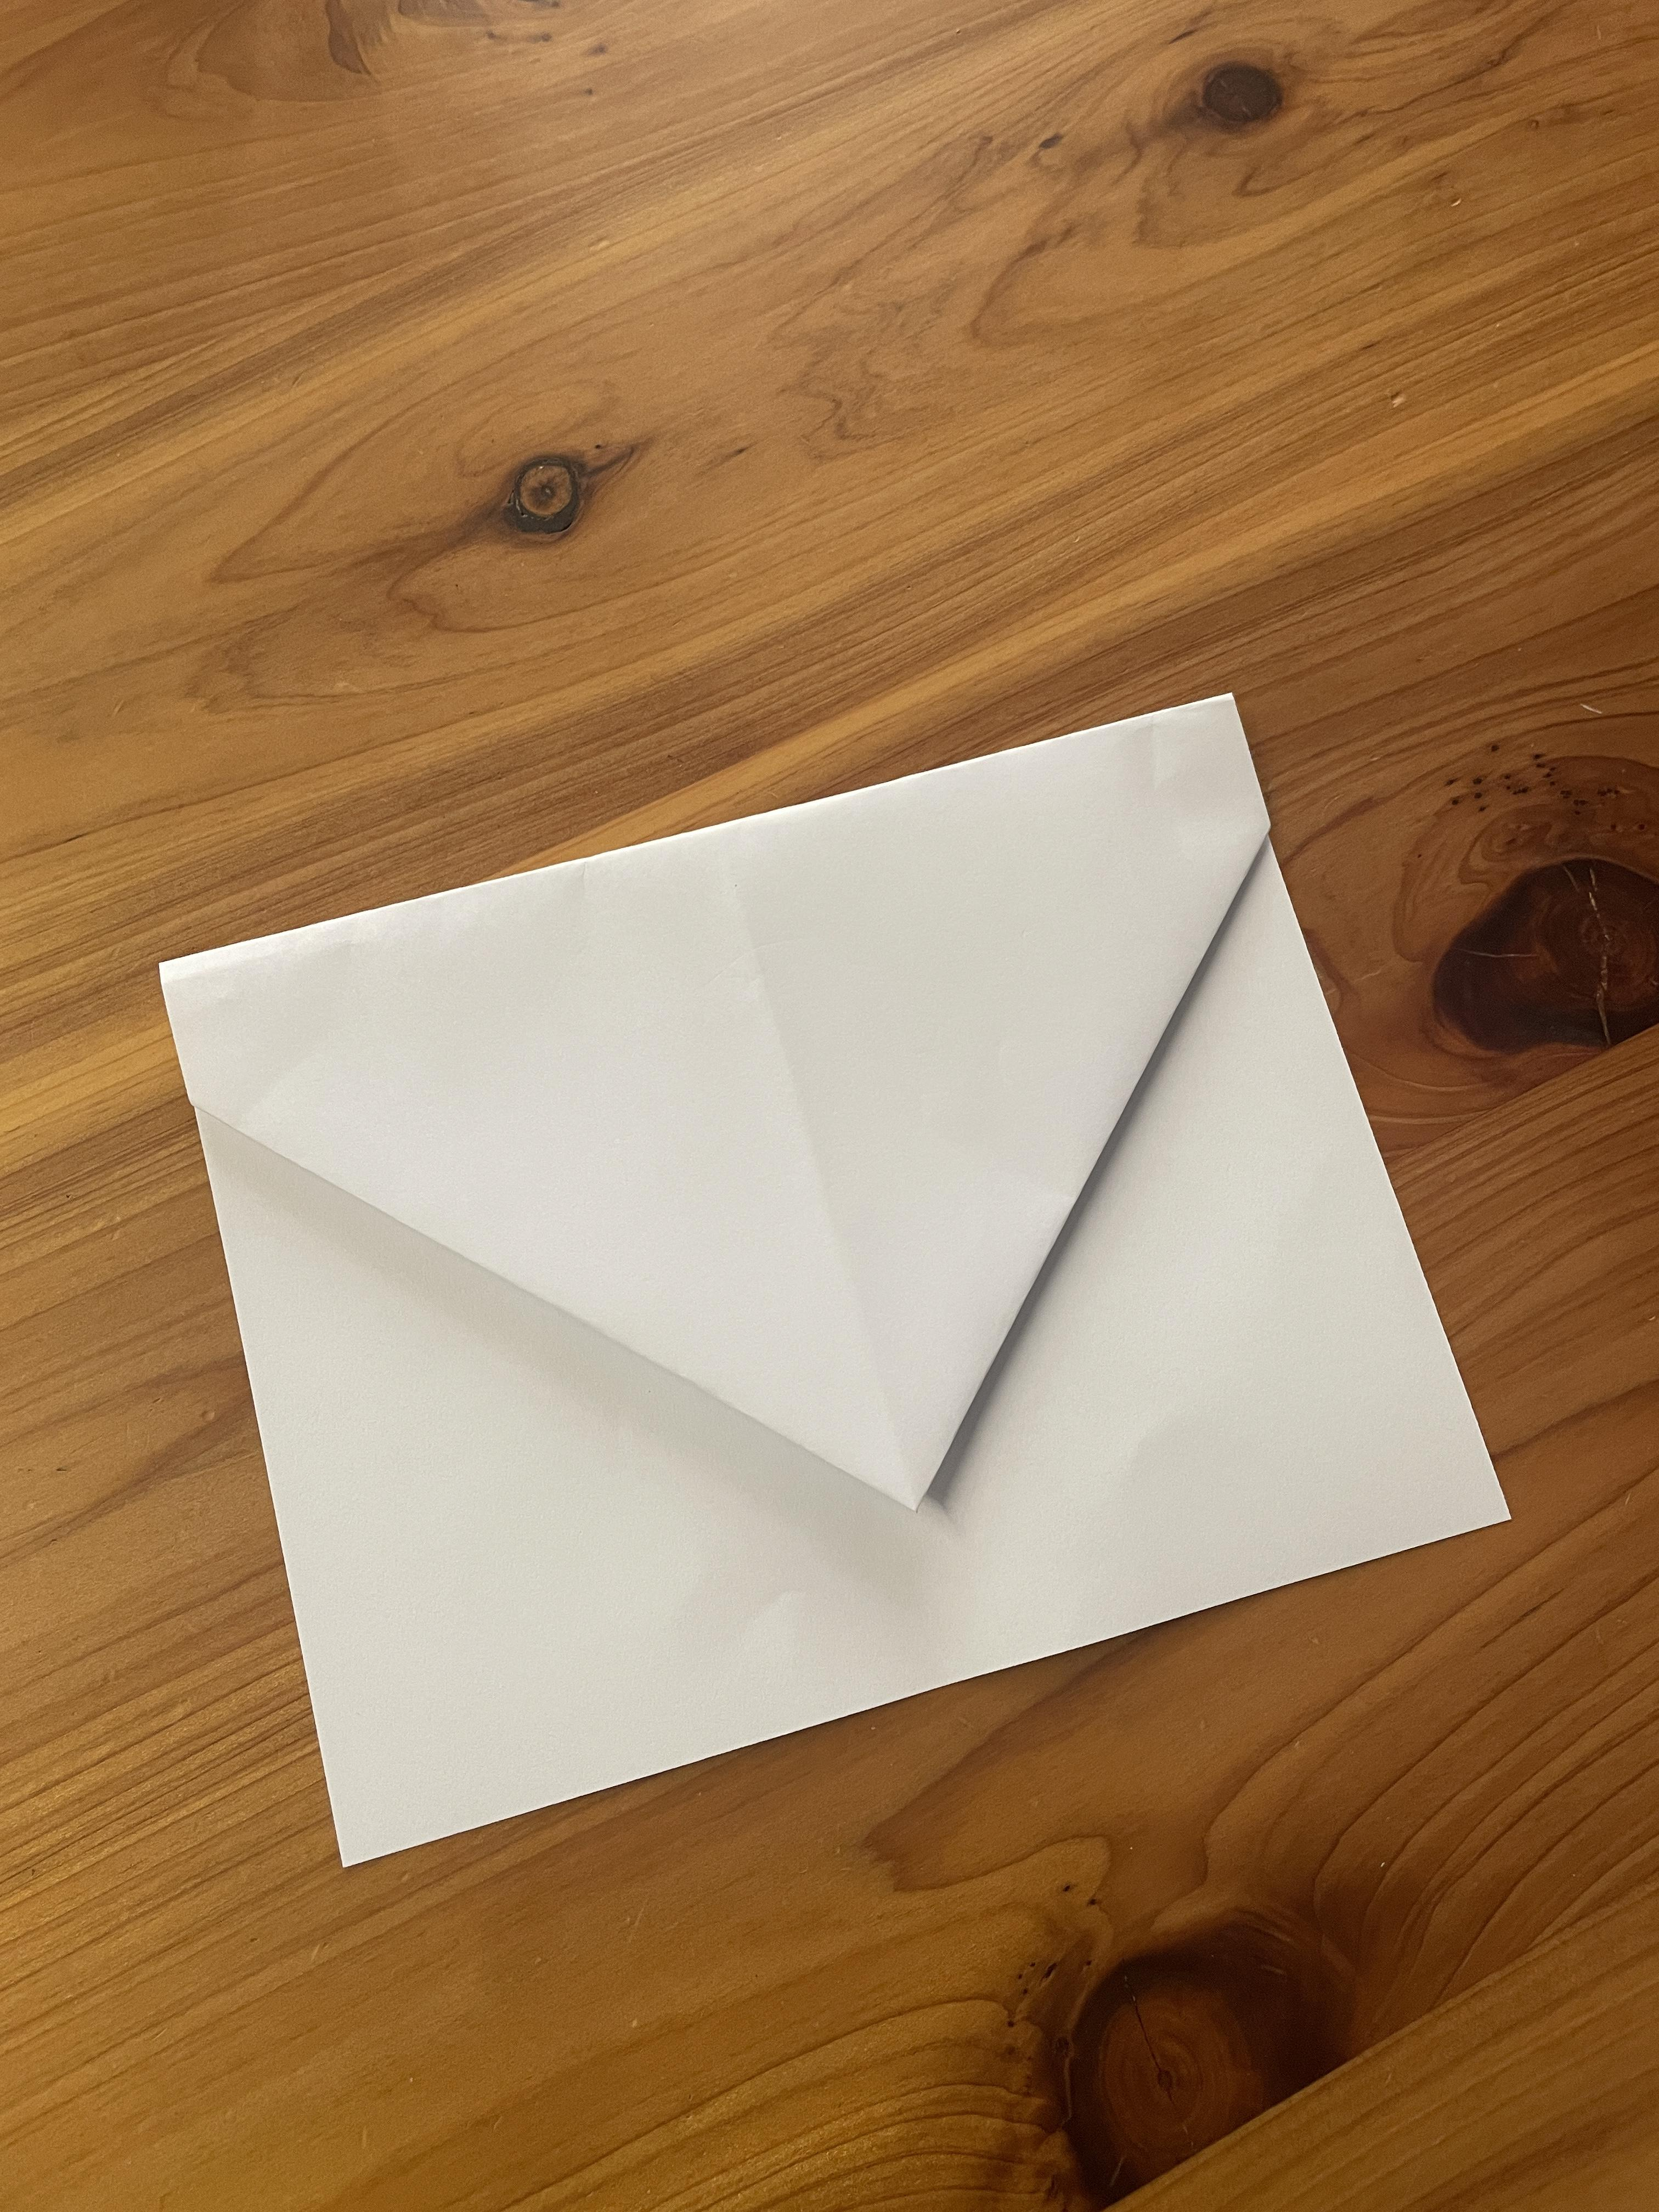shape_1: (94, 632, 1565, 1959)
